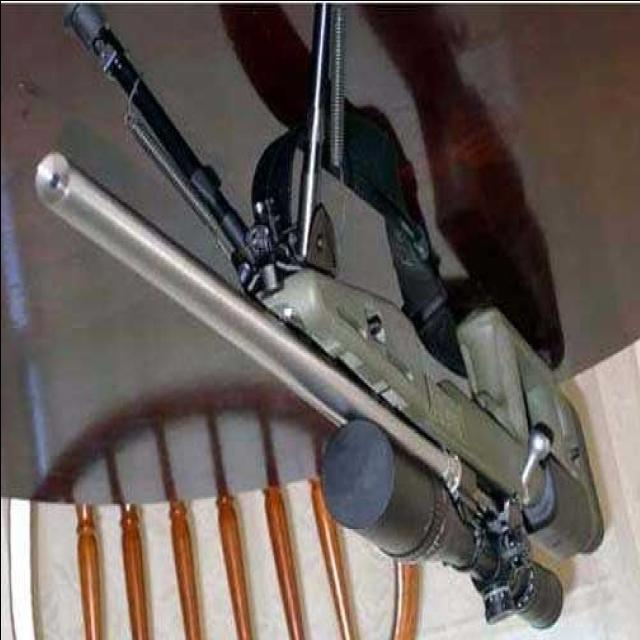heavyweapon: (19, 88, 609, 590)
